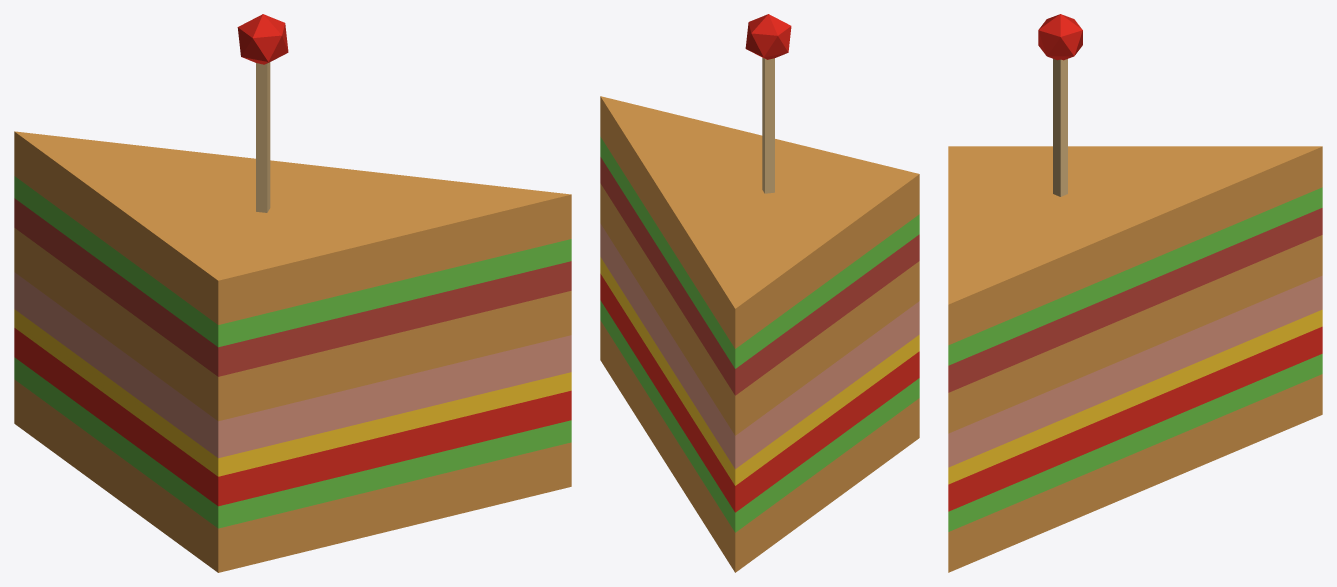
Rendered from sandwich.glb.
The picture shows the model from 3 angles, left to right: view 1: azimuth 30°, elevation 25°; view 2: azimuth 150°, elevation 25°; view 3: azimuth 270°, elevation 25°; orthographic projection. The views are drawn at different scales.
Visible parts, largest first — view 1: club_sandwich; view 2: club_sandwich; view 3: club_sandwich.
Part boxes in pixels (x1,y1,x2,y2): club_sandwich: (14,14,571,572); club_sandwich: (600,14,919,572); club_sandwich: (948,14,1322,572).
Size of the model in its own units: 0.1 by 0.132 by 0.1.
